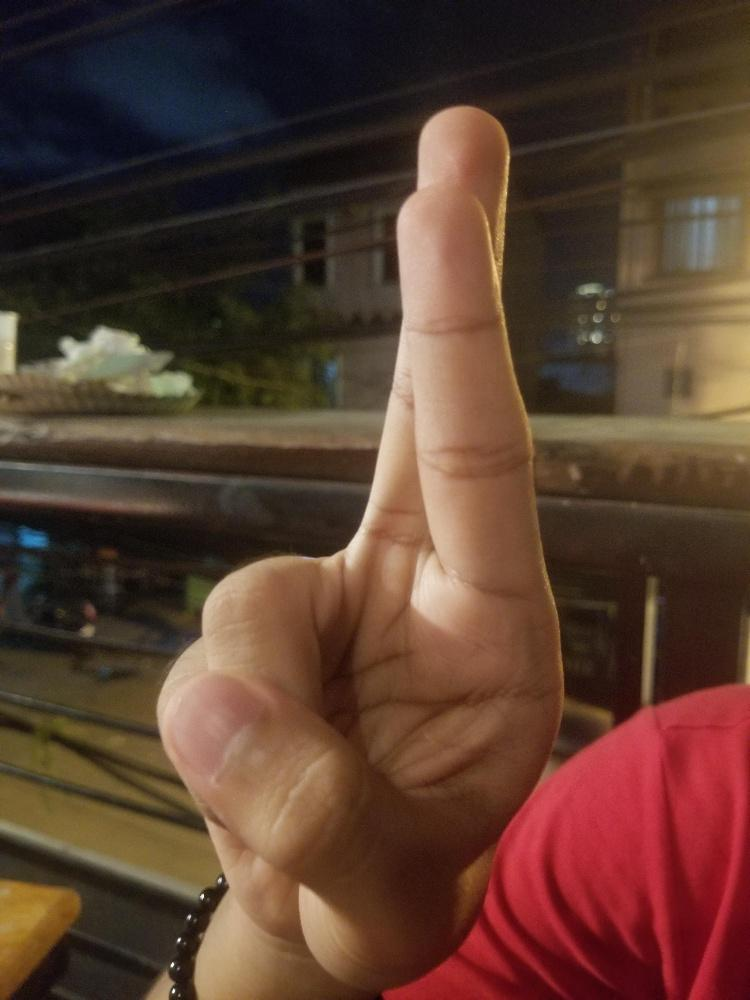r: (154, 102, 567, 995)
